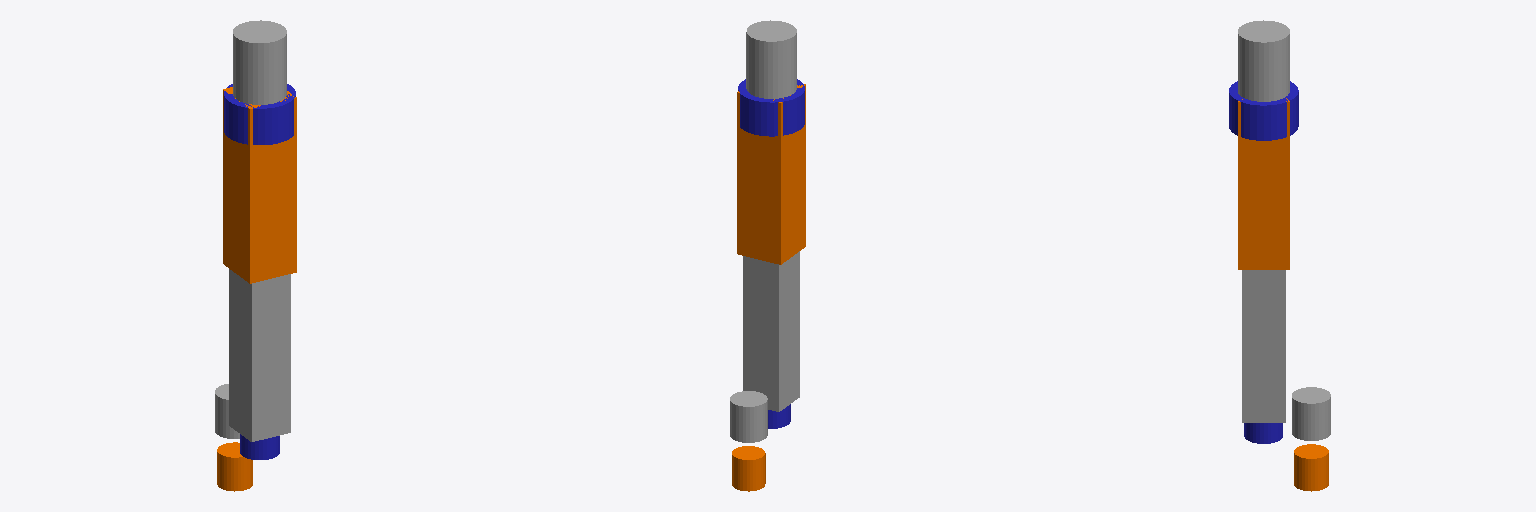
The robot description file, URDF, robot "ur5":
<?xml version="1.0"?>
<robot name="ur5">
  
  <!-- Base Link -->
  <link name="world"/>
  
  <link name="base_link">
    <visual>
      <geometry>
        <cylinder length="0.08916" radius="0.08"/>
      </geometry>
      <origin xyz="0 0 0.04458" rpy="0 0 0"/>
      <material name="blue">
        <color rgba="0.2 0.2 0.8 1"/>
      </material>
    </visual>
    <collision>
      <geometry>
        <cylinder length="0.08916" radius="0.08"/>
      </geometry>
      <origin xyz="0 0 0.04458" rpy="0 0 0"/>
    </collision>
    <inertial>
      <mass value="3.7"/>
      <origin xyz="0 0 0" rpy="0 0 0"/>
      <inertia ixx="0.01" ixy="0" ixz="0" iyy="0.01" iyz="0" izz="0.01"/>
    </inertial>
  </link>

  <joint name="world_joint" type="fixed">
    <parent link="world"/>
    <child link="base_link"/>
    <origin xyz="0 0 0" rpy="0 0 0"/>
  </joint>

  <!-- Shoulder Pan Link -->
  <link name="shoulder_link">
    <visual>
      <geometry>
        <cylinder length="0.15" radius="0.06"/>
      </geometry>
      <origin xyz="0 0 0.075" rpy="0 0 0"/>
      <material name="grey">
        <color rgba="0.7 0.7 0.7 1"/>
      </material>
    </visual>
    <collision>
      <geometry>
        <cylinder length="0.15" radius="0.06"/>
      </geometry>
      <origin xyz="0 0 0.075" rpy="0 0 0"/>
    </collision>
    <inertial>
      <mass value="8.393"/>
      <origin xyz="0 0 0" rpy="0 0 0"/>
      <inertia ixx="0.022" ixy="0" ixz="0" iyy="0.022" iyz="0" izz="0.022"/>
    </inertial>
  </link>

  <joint name="shoulder_pan_joint" type="revolute">
    <parent link="base_link"/>
    <child link="shoulder_link"/>
    <origin xyz="0 0 0.08916" rpy="0 0 0"/>
    <axis xyz="0 0 1"/>
    <limit lower="-6.2832" upper="6.2832" effort="150.0" velocity="3.15"/>
    <dynamics damping="0.5" friction="0.1"/>
  </joint>

  <!-- Shoulder Lift Link -->
  <link name="upper_arm_link">
    <visual>
      <geometry>
        <box size="0.425 0.12 0.12"/>
      </geometry>
      <origin xyz="0.2125 0 0" rpy="0 0 0"/>
      <material name="orange">
        <color rgba="1.0 0.5 0.0 1"/>
      </material>
    </visual>
    <collision>
      <geometry>
        <box size="0.425 0.12 0.12"/>
      </geometry>
      <origin xyz="0.2125 0 0" rpy="0 0 0"/>
    </collision>
    <inertial>
      <mass value="2.275"/>
      <origin xyz="0.2125 0 0" rpy="0 0 0"/>
      <inertia ixx="0.0133" ixy="0" ixz="0" iyy="0.0133" iyz="0" izz="0.0133"/>
    </inertial>
  </link>

  <joint name="shoulder_lift_joint" type="revolute">
    <parent link="shoulder_link"/>
    <child link="upper_arm_link"/>
    <origin xyz="0 0 0" rpy="0 1.5707963 0"/>
    <axis xyz="0 0 1"/>
    <limit lower="-6.2832" upper="6.2832" effort="150.0" velocity="3.15"/>
    <dynamics damping="0.5" friction="0.1"/>
  </joint>

  <!-- Elbow Link -->
  <link name="forearm_link">
    <visual>
      <geometry>
        <box size="0.39225 0.10 0.10"/>
      </geometry>
      <origin xyz="0.196125 0 0" rpy="0 0 0"/>
      <material name="grey">
        <color rgba="0.7 0.7 0.7 1"/>
      </material>
    </visual>
    <collision>
      <geometry>
        <box size="0.39225 0.10 0.10"/>
      </geometry>
      <origin xyz="0.196125 0 0" rpy="0 0 0"/>
    </collision>
    <inertial>
      <mass value="1.219"/>
      <origin xyz="0.196125 0 0" rpy="0 0 0"/>
      <inertia ixx="0.008" ixy="0" ixz="0" iyy="0.008" iyz="0" izz="0.008"/>
    </inertial>
  </link>

  <joint name="elbow_joint" type="revolute">
    <parent link="upper_arm_link"/>
    <child link="forearm_link"/>
    <origin xyz="0.425 0 0" rpy="0 0 0"/>
    <axis xyz="0 0 1"/>
    <limit lower="-3.1416" upper="3.1416" effort="150.0" velocity="3.15"/>
    <dynamics damping="0.5" friction="0.1"/>
  </joint>

  <!-- Wrist 1 Link -->
  <link name="wrist_1_link">
    <visual>
      <geometry>
        <cylinder length="0.10915" radius="0.045"/>
      </geometry>
      <origin xyz="0 0 0" rpy="0 0 0"/>
      <material name="blue">
        <color rgba="0.2 0.2 0.8 1"/>
      </material>
    </visual>
    <collision>
      <geometry>
        <cylinder length="0.10915" radius="0.045"/>
      </geometry>
      <origin xyz="0 0 0" rpy="0 0 0"/>
    </collision>
    <inertial>
      <mass value="1.219"/>
      <origin xyz="0 0 0" rpy="0 0 0"/>
      <inertia ixx="0.005" ixy="0" ixz="0" iyy="0.005" iyz="0" izz="0.005"/>
    </inertial>
  </link>

  <joint name="wrist_1_joint" type="revolute">
    <parent link="forearm_link"/>
    <child link="wrist_1_link"/>
    <origin xyz="0.39225 0 0" rpy="0 1.5707963 0"/>
    <axis xyz="0 0 1"/>
    <limit lower="-6.2832" upper="6.2832" effort="28.0" velocity="3.2"/>
    <dynamics damping="0.1" friction="0.05"/>
  </joint>

  <!-- Wrist 2 Link -->
  <link name="wrist_2_link">
    <visual>
      <geometry>
        <cylinder length="0.09456" radius="0.045"/>
      </geometry>
      <origin xyz="0 0 0" rpy="0 0 0"/>
      <material name="grey">
        <color rgba="0.7 0.7 0.7 1"/>
      </material>
    </visual>
    <collision>
      <geometry>
        <cylinder length="0.09456" radius="0.045"/>
      </geometry>
      <origin xyz="0 0 0" rpy="0 0 0"/>
    </collision>
    <inertial>
      <mass value="1.219"/>
      <origin xyz="0 0 0" rpy="0 0 0"/>
      <inertia ixx="0.005" ixy="0" ixz="0" iyy="0.005" iyz="0" izz="0.005"/>
    </inertial>
  </link>

  <joint name="wrist_2_joint" type="revolute">
    <parent link="wrist_1_link"/>
    <child link="wrist_2_link"/>
    <origin xyz="0 0.10915 0" rpy="0 0 0"/>
    <axis xyz="0 0 1"/>
    <limit lower="-6.2832" upper="6.2832" effort="28.0" velocity="3.2"/>
    <dynamics damping="0.1" friction="0.05"/>
  </joint>

  <!-- Wrist 3 Link (End Effector) -->
  <link name="wrist_3_link">
    <visual>
      <geometry>
        <cylinder length="0.0823" radius="0.04"/>
      </geometry>
      <origin xyz="0 0 0.04115" rpy="0 0 0"/>
      <material name="orange">
        <color rgba="1.0 0.5 0.0 1"/>
      </material>
    </visual>
    <collision>
      <geometry>
        <cylinder length="0.0823" radius="0.04"/>
      </geometry>
      <origin xyz="0 0 0.04115" rpy="0 0 0"/>
    </collision>
    <inertial>
      <mass value="0.1879"/>
      <origin xyz="0 0 0" rpy="0 0 0"/>
      <inertia ixx="0.001" ixy="0" ixz="0" iyy="0.001" iyz="0" izz="0.001"/>
    </inertial>
  </link>

  <joint name="wrist_3_joint" type="revolute">
    <parent link="wrist_2_link"/>
    <child link="wrist_3_link"/>
    <origin xyz="0 0 0.09456" rpy="0 0 0"/>
    <axis xyz="0 0 1"/>
    <limit lower="-6.2832" upper="6.2832" effort="28.0" velocity="3.2"/>
    <dynamics damping="0.1" friction="0.05"/>
  </joint>

  <!-- End Effector Frame -->
  <link name="ee_link"/>
  
  <joint name="ee_fixed_joint" type="fixed">
    <parent link="wrist_3_link"/>
    <child link="ee_link"/>
    <origin xyz="0 0 0.0823" rpy="0 0 0"/>
  </joint>

  <!-- Gazebo-specific plugins and properties -->
  <gazebo reference="base_link">
    <material>Gazebo/Blue</material>
    <selfCollide>false</selfCollide>
  </gazebo>

  <gazebo reference="shoulder_link">
    <material>Gazebo/Grey</material>
    <selfCollide>false</selfCollide>
  </gazebo>

  <gazebo reference="upper_arm_link">
    <material>Gazebo/Orange</material>
    <selfCollide>false</selfCollide>
  </gazebo>

  <gazebo reference="forearm_link">
    <material>Gazebo/Grey</material>
    <selfCollide>false</selfCollide>
  </gazebo>

  <gazebo reference="wrist_1_link">
    <material>Gazebo/Blue</material>
    <selfCollide>false</selfCollide>
  </gazebo>

  <gazebo reference="wrist_2_link">
    <material>Gazebo/Grey</material>
    <selfCollide>false</selfCollide>
  </gazebo>

  <gazebo reference="wrist_3_link">
    <material>Gazebo/Orange</material>
    <selfCollide>false</selfCollide>
  </gazebo>

</robot>

--- Render facts (derived) ---
3 views of the same robot in one strip: view 1: azimuth 30°, elevation 25°; view 2: azimuth 150°, elevation 25°; view 3: azimuth 270°, elevation 25° (orthographic).
Robot: ur5 — 9 links, 8 joints (6 revolute, 2 fixed); root link world; default pose: all joints at 0.
Visible links, largest first — view 1: upper_arm_link, forearm_link, shoulder_link, base_link, wrist_3_link, wrist_2_link, wrist_1_link; view 2: upper_arm_link, forearm_link, shoulder_link, base_link, wrist_2_link, wrist_3_link; view 3: upper_arm_link, forearm_link, shoulder_link, base_link, wrist_2_link, wrist_3_link, wrist_1_link.
Link boxes in pixels (x1,y1,x2,y2): upper_arm_link: (223,87,296,283); forearm_link: (229,269,290,441); shoulder_link: (233,20,286,104); base_link: (224,84,295,144); wrist_3_link: (217,442,252,491); wrist_2_link: (215,384,239,438); wrist_1_link: (240,434,279,459); upper_arm_link: (737,84,805,264); forearm_link: (743,251,799,411); shoulder_link: (746,20,796,98); base_link: (738,79,804,136); wrist_2_link: (730,391,767,442); wrist_3_link: (732,446,765,491); upper_arm_link: (1238,98,1289,269); forearm_link: (1242,270,1285,422); shoulder_link: (1238,20,1289,101); base_link: (1229,81,1298,140); wrist_2_link: (1292,387,1330,440); wrist_3_link: (1294,444,1328,491); wrist_1_link: (1244,423,1282,443).
Bounding box of the posed robot: 0.16 × 0.2342 × 1.14 m (x, y, z).
Geometry: primitives only (box / cylinder / sphere), no mesh files.